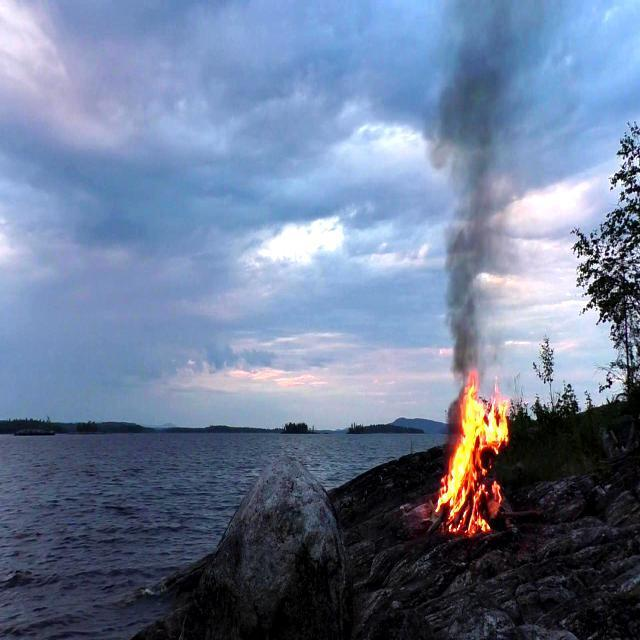Fire: (437, 370, 509, 538)
Smoke: (430, 0, 555, 376)
